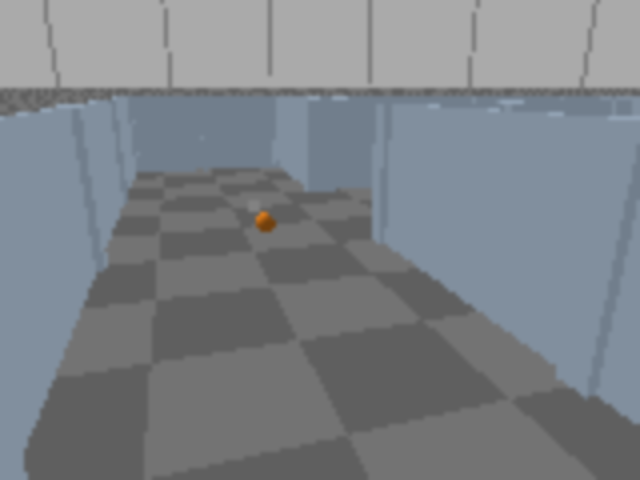puck: (254, 210, 277, 235)
